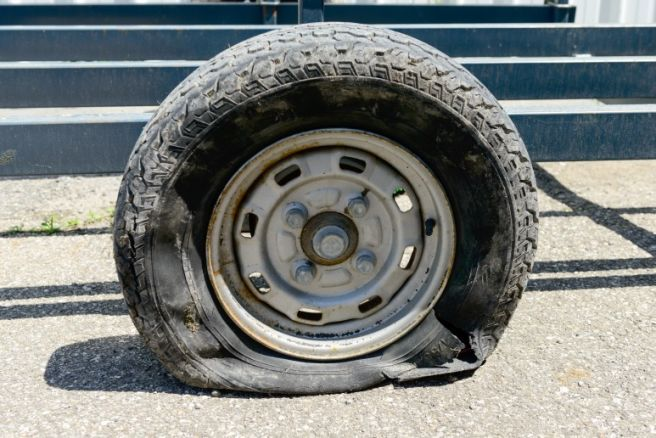bad_condition: (108, 18, 544, 403)
